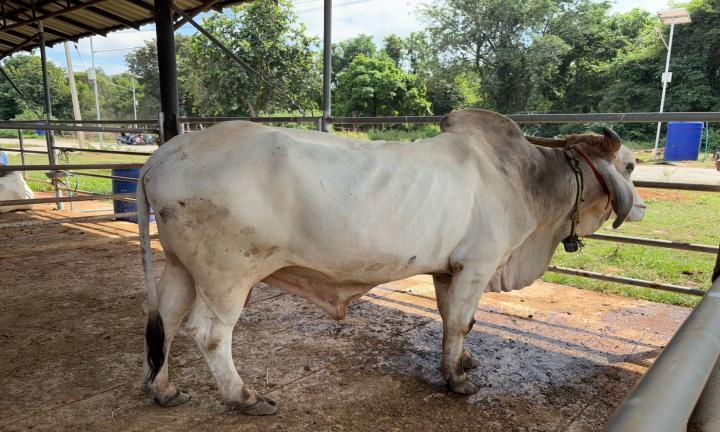Brahman: (137, 109, 644, 414)
